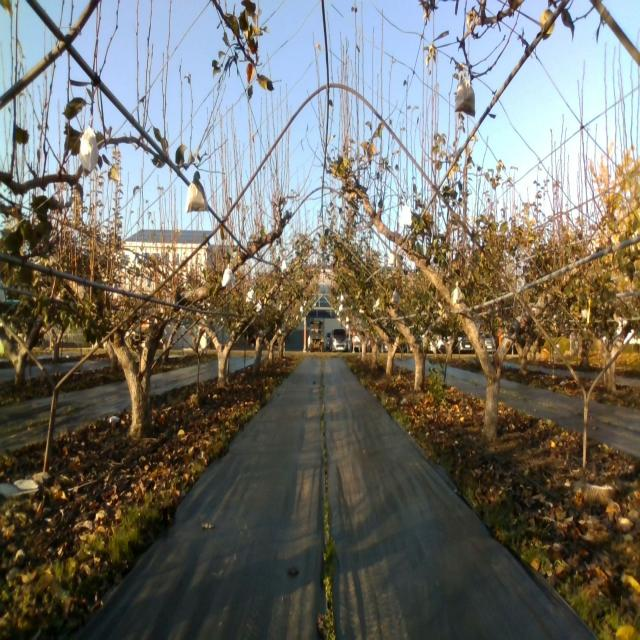pearbags: (183, 169, 208, 213), (78, 125, 100, 173), (454, 78, 476, 116), (222, 264, 235, 287), (401, 204, 413, 227)
